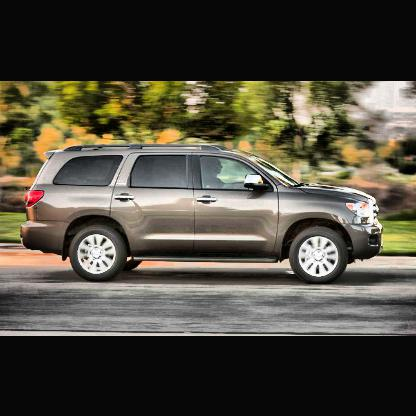Toyota Sequoia SUV 2012: (21, 143, 387, 282)
